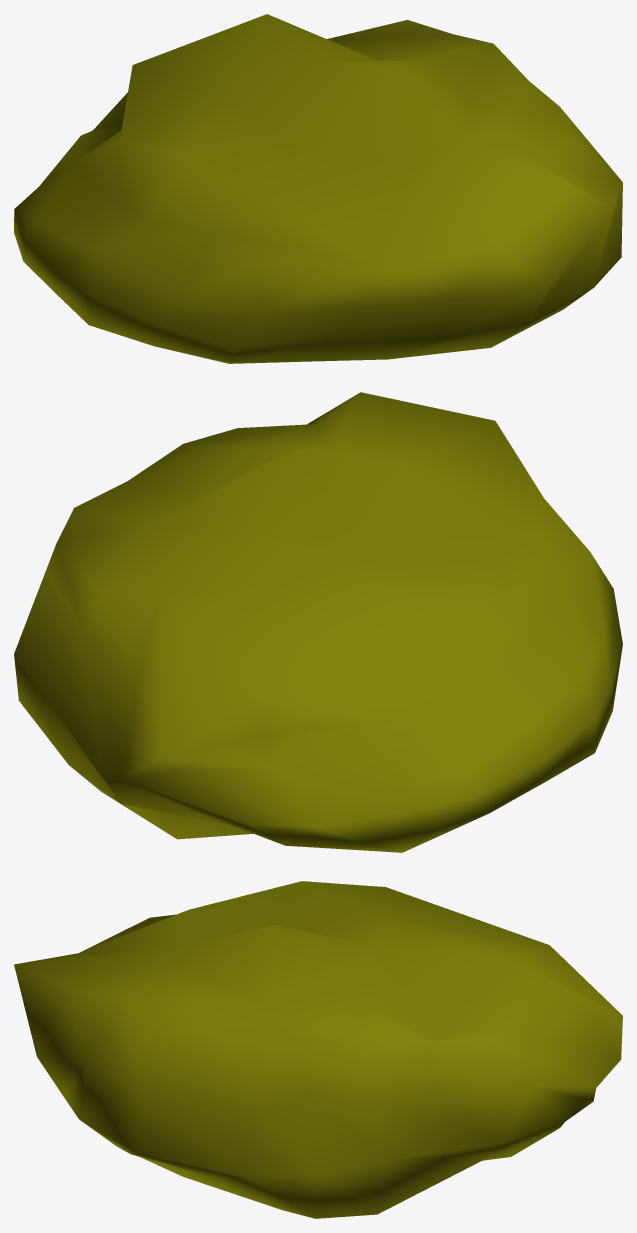
Rendered from BigRock05_mesh.fbx.
3 views of the same model, one above another, from view 1: azimuth 30°, elevation 25°; view 2: azimuth 150°, elevation 25°; view 3: azimuth 270°, elevation 25° (orthographic). The views are drawn at different scales.
Visible parts, largest first — view 1: BigRock05_mesh; view 2: BigRock05_mesh; view 3: BigRock05_mesh.
Boxes of the visible parts, box(x1,y1,x2,y2) form: BigRock05_mesh: box(14, 14, 622, 363); BigRock05_mesh: box(14, 392, 622, 852); BigRock05_mesh: box(14, 881, 622, 1218).
Bounding box in the file's own units: 12.76 × 6.61 × 14.79.
